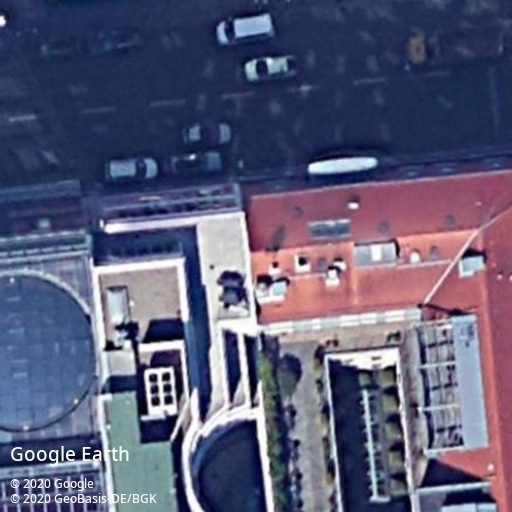Chiller: (144, 366, 178, 419)
